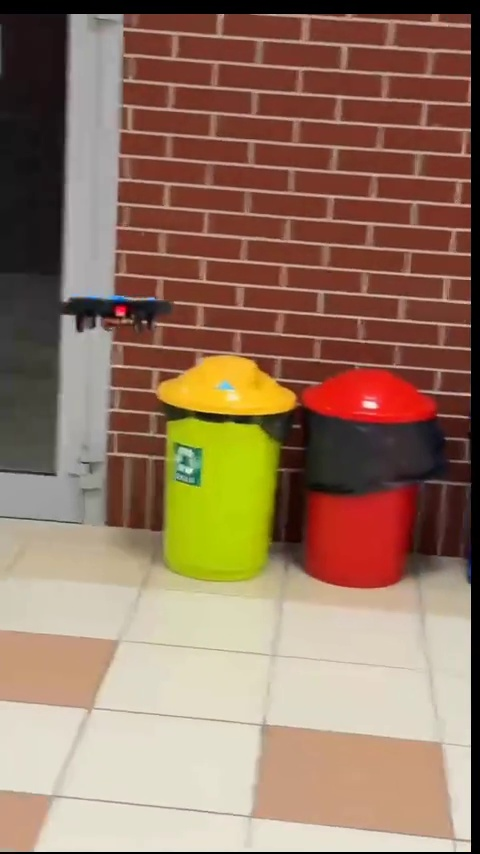drone: (54, 296, 178, 338)
